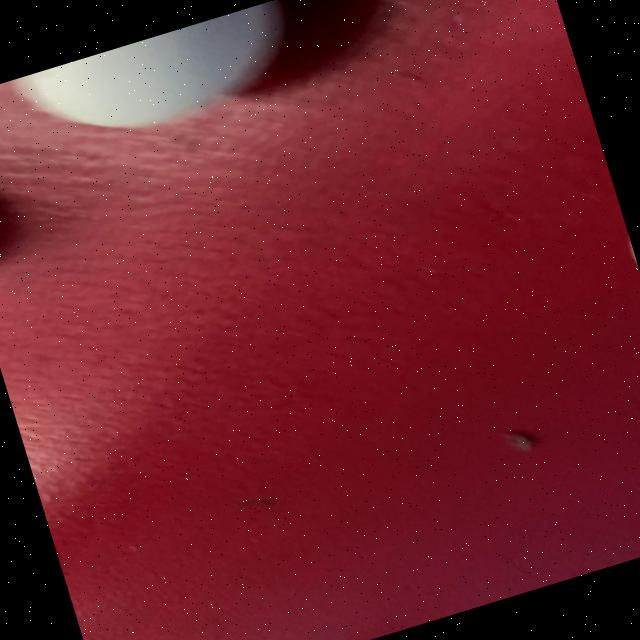ping-pong-ball: (0, 0, 330, 182)
